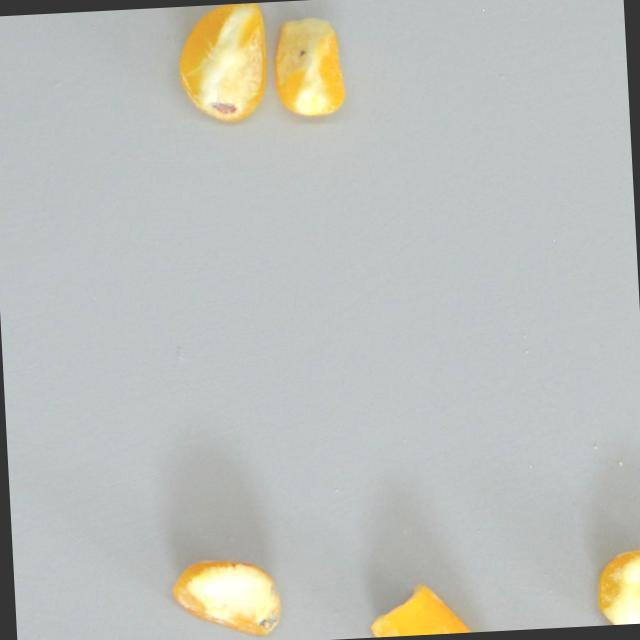dañado: (175, 2, 271, 126), (169, 555, 283, 640), (595, 549, 640, 626)
pelicula: (366, 579, 499, 638)
punto_negro: (272, 13, 348, 117)
